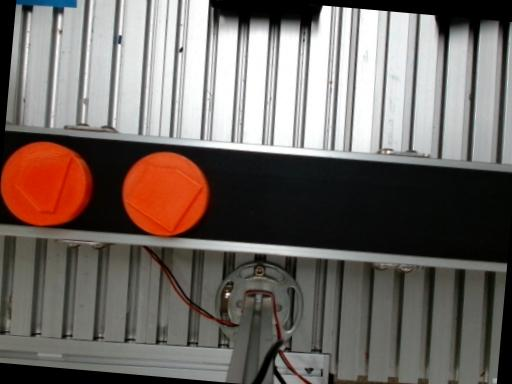Not_Square: (123, 164, 204, 233), (15, 154, 74, 213)
Orange_Waper: (0, 142, 92, 226), (121, 151, 209, 236)
